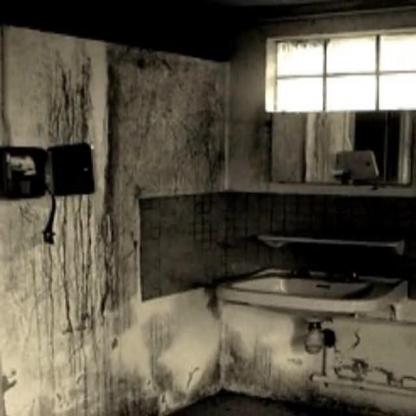other: (273, 45, 404, 104)
